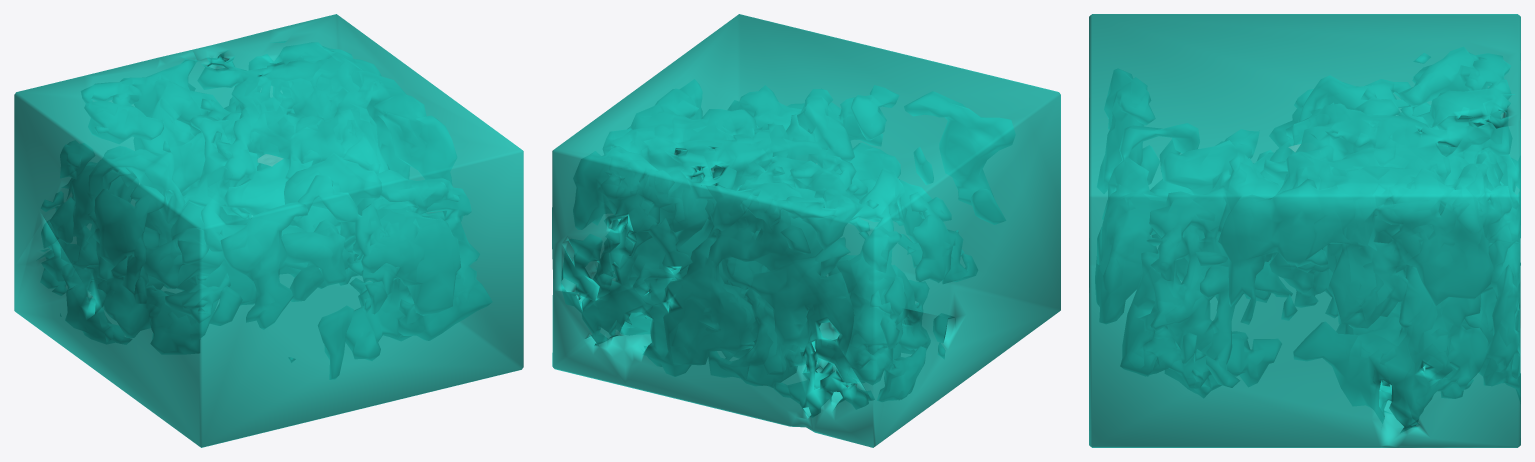
3 renders of one model, left to right at view 1: azimuth 30°, elevation 25°; view 2: azimuth 150°, elevation 25°; view 3: azimuth 270°, elevation 25°, orthographic. The views are drawn at different scales.
Visible parts, largest first — view 1: Liquid_Domain; view 2: Liquid_Domain; view 3: Liquid_Domain.
Part boxes in pixels (box(x1,y1,x2,y2)): Liquid_Domain: box(14, 14, 523, 447); Liquid_Domain: box(552, 14, 1060, 447); Liquid_Domain: box(1089, 14, 1520, 447).
Size of the model in its own units: 391 by 254 by 391.
